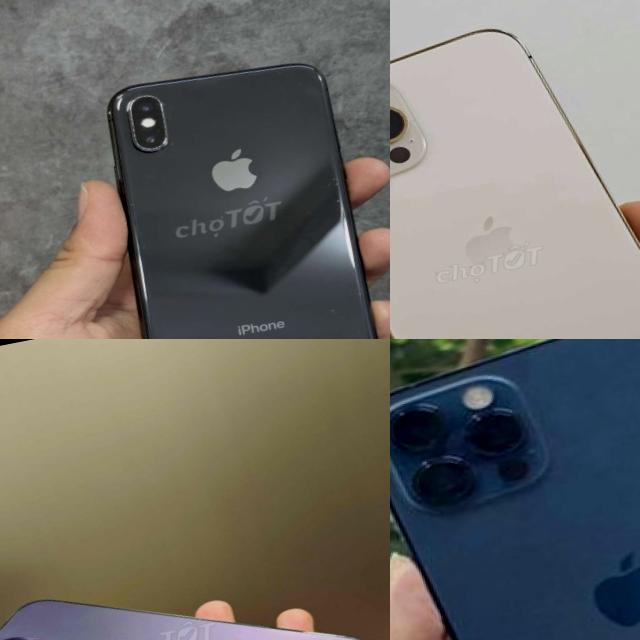gen_12_13: (390, 30, 640, 339), (390, 339, 640, 640)
gen_14: (0, 528, 390, 640)
gen_x_xs: (108, 64, 377, 339)
